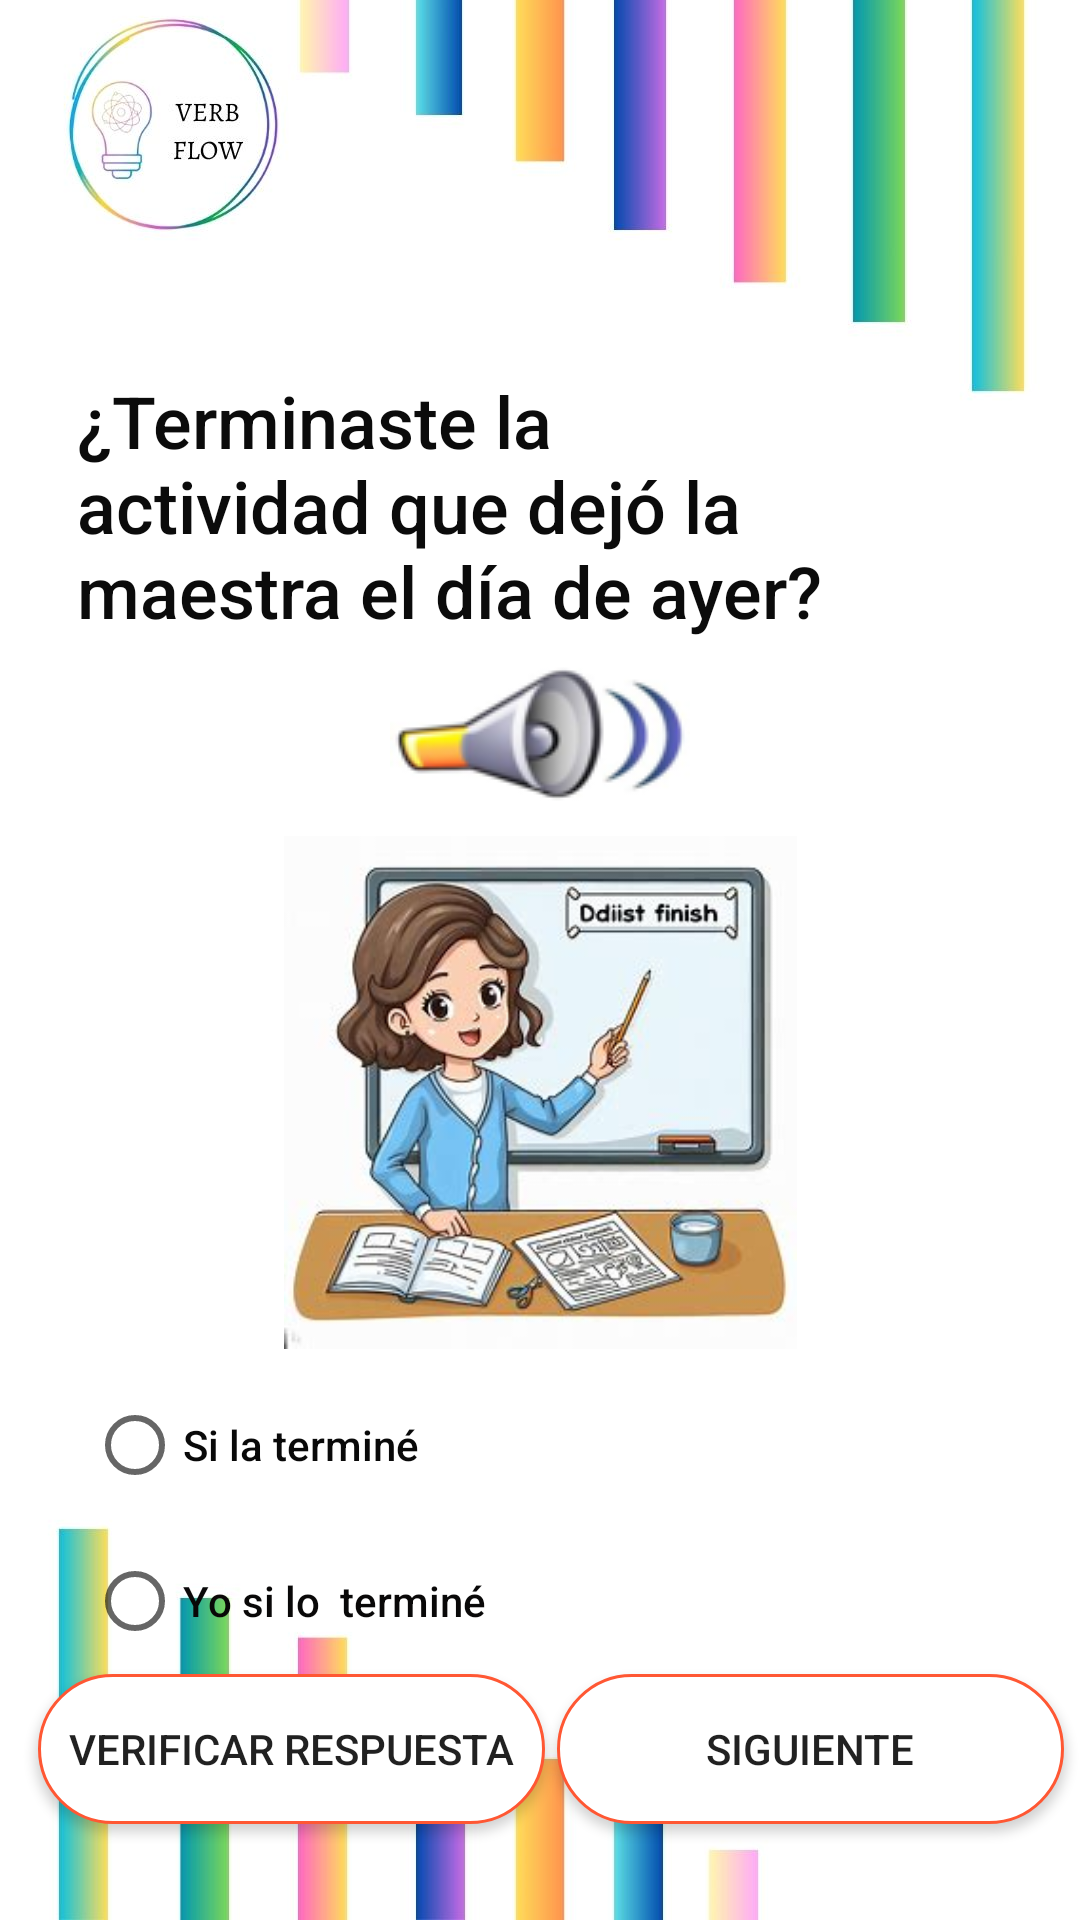

Icon bounding boxes for this 1080 x 1920 phone screenshot, format (x1, y1, x2, y2):
altavoz: (397, 670, 682, 798)
